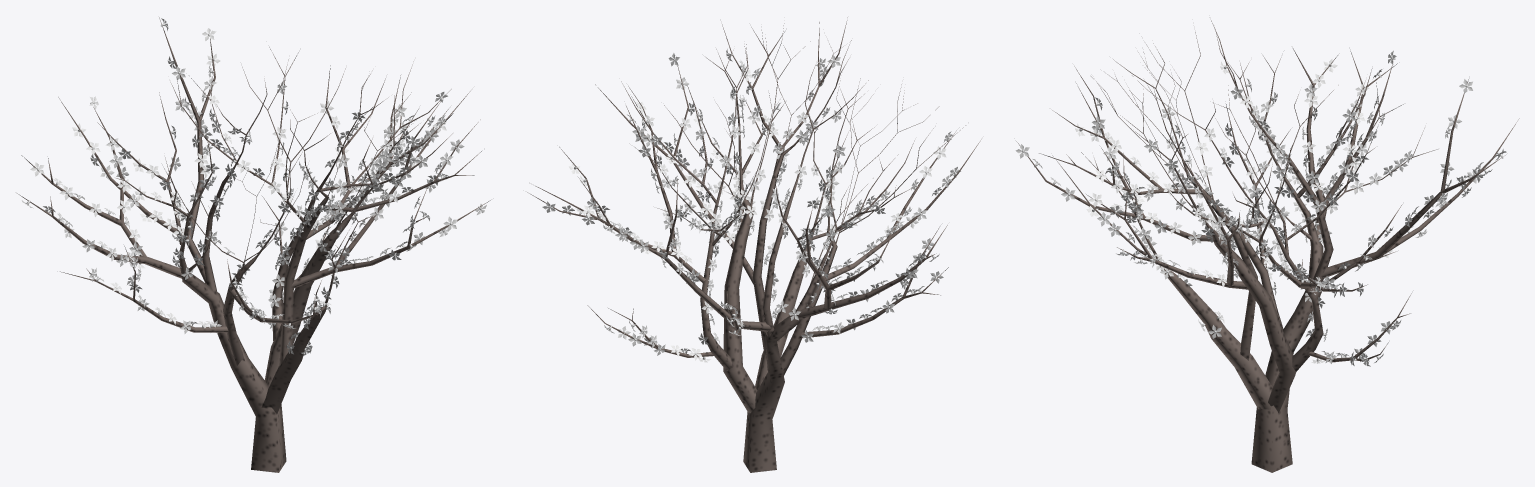
The model's file is melocotonero1.fbx.
3 renders of one model, left to right at view 1: azimuth 30°, elevation 25°; view 2: azimuth 150°, elevation 25°; view 3: azimuth 270°, elevation 25°, orthographic. The views are drawn at different scales.
Parts seen in each view (by area): view 1: tree; view 2: tree; view 3: tree.
Boxes of the visible parts, <box> form: tree: <box>17,17,490,472</box>; tree: <box>527,17,981,472</box>; tree: <box>1015,20,1519,472</box>.
Bounding box in the file's own units: 512 × 487 × 529.
2 materials, 1 textured.
